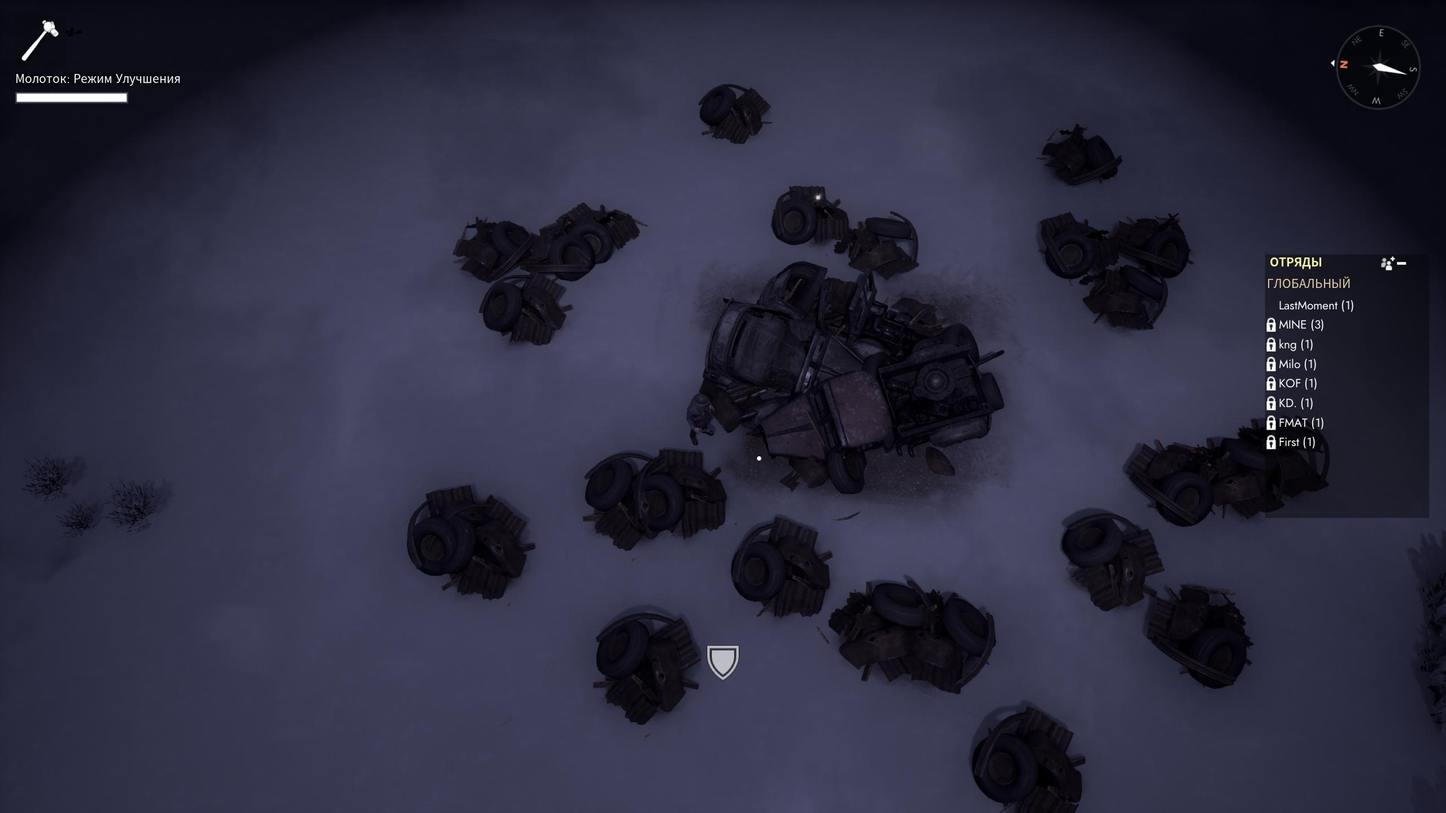player: (687, 392, 714, 444)
scrap_pile: (1127, 427, 1326, 525), (830, 579, 996, 693), (453, 203, 641, 283), (407, 486, 535, 600), (583, 449, 726, 549), (971, 707, 1085, 812), (594, 613, 700, 724), (1147, 584, 1251, 688), (1062, 513, 1164, 610), (734, 516, 831, 617), (479, 271, 571, 346), (834, 211, 921, 281), (1079, 265, 1167, 329), (1040, 213, 1118, 279), (1111, 216, 1189, 278), (1042, 126, 1122, 185), (771, 187, 850, 246), (699, 84, 770, 143)
terrain: (700, 263, 1003, 493)
